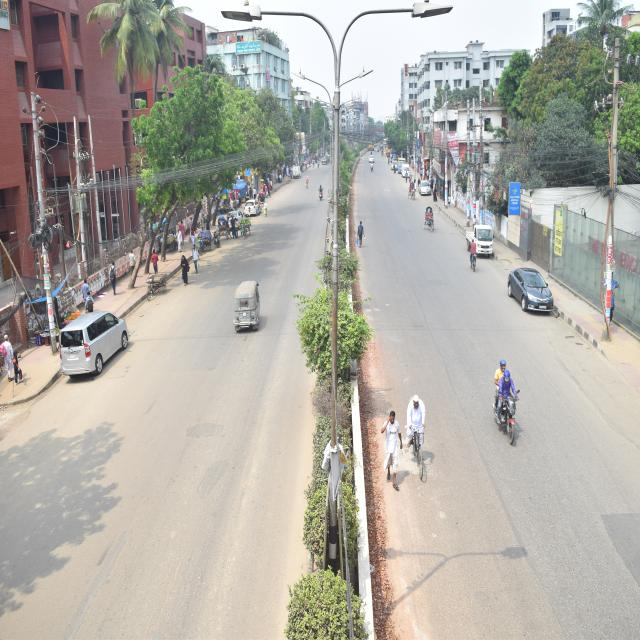car: (53, 310, 132, 379), (507, 262, 560, 320), (243, 200, 262, 218), (418, 177, 435, 196)
motorbike: (490, 363, 520, 449), (316, 181, 327, 203)
pickup-van: (462, 220, 500, 257)
